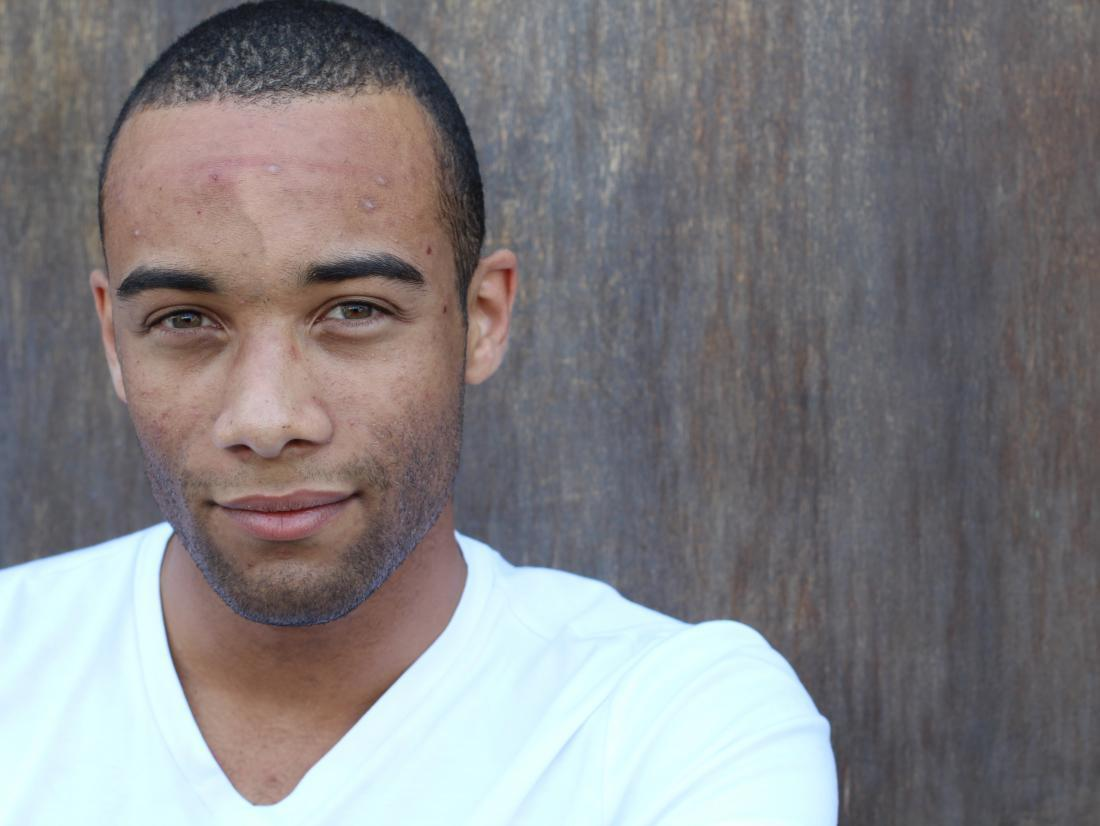bare: (116, 362, 468, 622)
